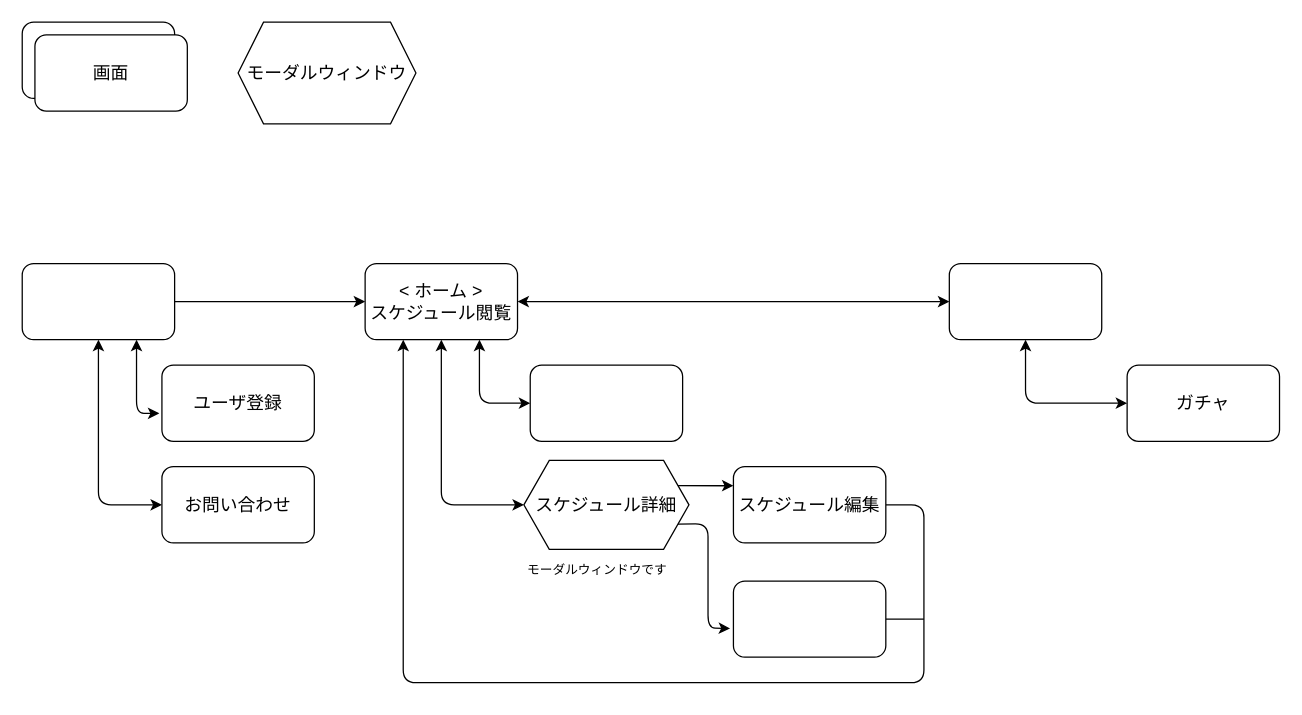
Some shapes in this 1302 by 715 pixel diagram are drawn without their labels. The centre of each missing label's shape, as x and y in pixels:
"スケジュール削除" belongs at (809,618).
"スケジュール登録" belongs at (606,402).
"ペット" belongs at (1025,301).
"ログイン" belongs at (98,301).
